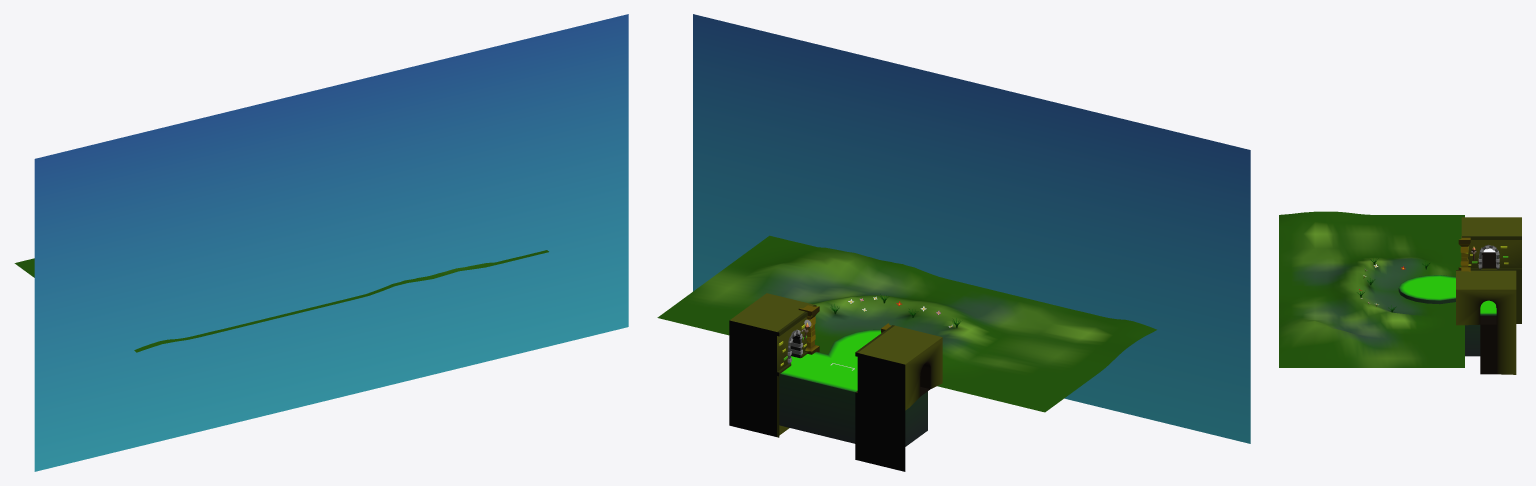
File: Golf Room.fbx
3 renders of one model, left to right at view 1: azimuth 30°, elevation 25°; view 2: azimuth 150°, elevation 25°; view 3: azimuth 270°, elevation 25°, orthographic. The views are drawn at different scales.
Parts seen in each view (by area): view 1: Golf_Room; view 2: Golf_Room; view 3: Golf_Room.
Part boxes in pixels (x1,y1,x2,y2): Golf_Room: (14, 14, 628, 471); Golf_Room: (657, 14, 1250, 471); Golf_Room: (1279, 211, 1521, 374).
Size of the model in its own units: 49.45 by 24.9 by 23.05.
